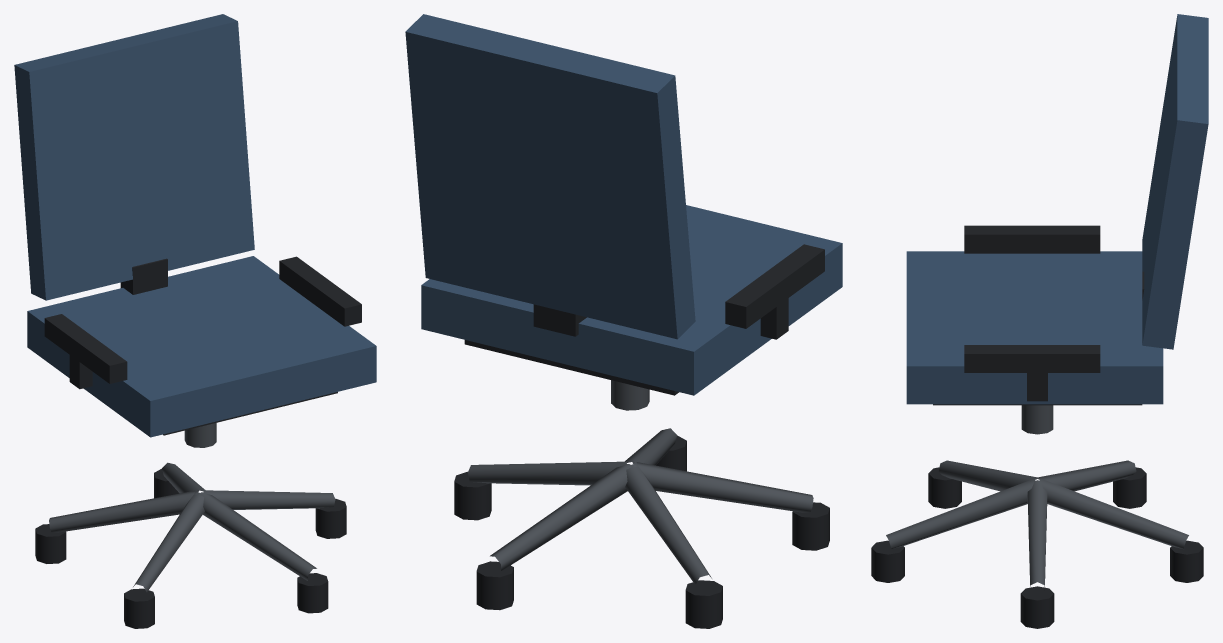
The model's file is cadeira-escritorio.glb.
3 views of the same model, side by side, from view 1: azimuth 30°, elevation 25°; view 2: azimuth 150°, elevation 25°; view 3: azimuth 270°, elevation 25° (orthographic). The views are drawn at different scales.
Visible parts, largest first — view 1: Encosto, Assento, Base, Rodinhas; view 2: Encosto, Assento, Base, Rodinhas; view 3: Assento, Encosto, Base, Rodinhas.
Boxes of the visible parts, x1,y1,x2,y2 form: Encosto: (14,14,361,389); Assento: (27,256,376,437); Base: (49,423,335,592); Rodinhas: (35,468,346,628); Encosto: (405,14,824,339); Assento: (421,205,842,395); Base: (467,380,813,584); Rodinhas: (454,435,829,628); Assento: (906,251,1163,405); Encosto: (964,14,1208,401); Base: (886,405,1188,590); Rodinhas: (871,467,1203,628).
Bounding box in the file's own units: 0.622 × 1.03 × 0.644.
